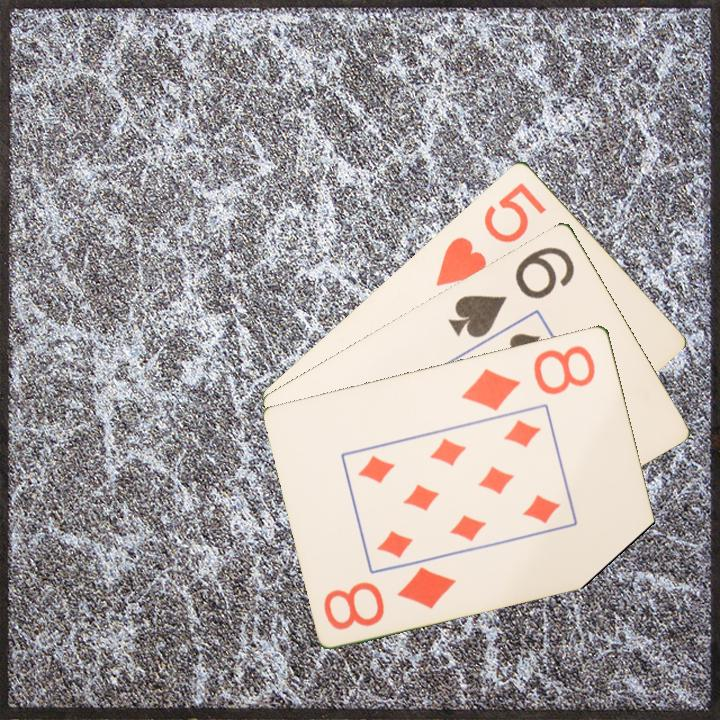5h: (431, 178, 550, 289)
6s: (444, 242, 578, 341)
8d: (458, 341, 599, 413), (320, 562, 460, 633)
